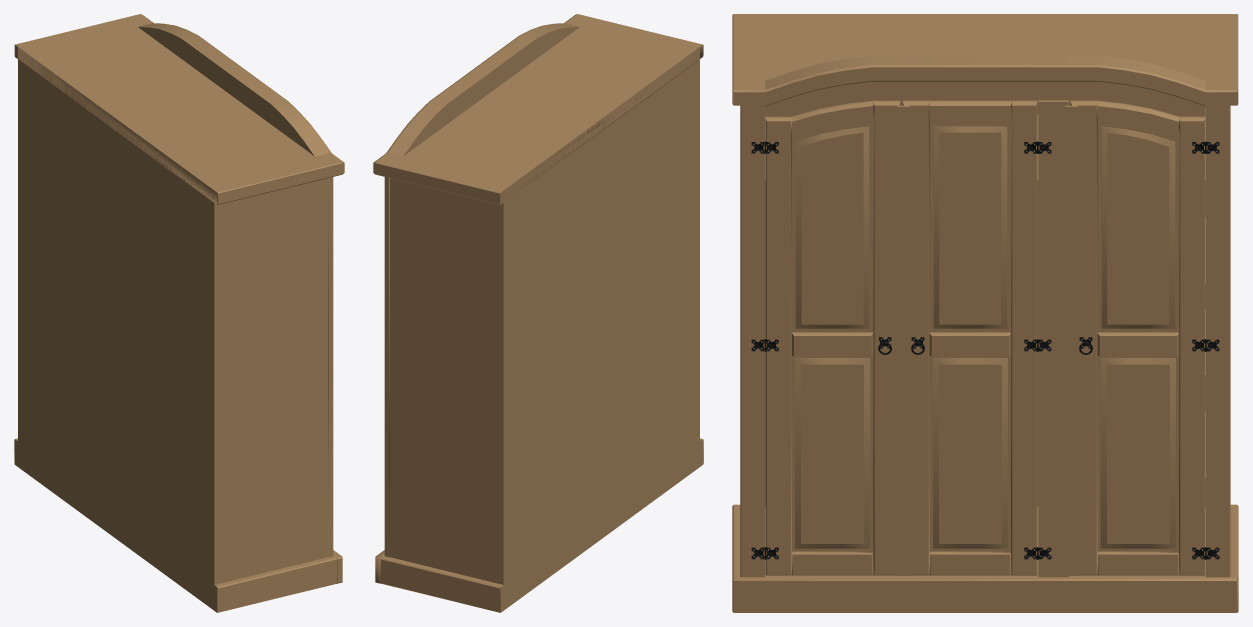
The model's file is Corona Wardrobe Set Blend.dae.
The picture shows the model from 3 angles, left to right: view 1: azimuth 30°, elevation 25°; view 2: azimuth 150°, elevation 25°; view 3: azimuth 270°, elevation 25°; orthographic projection. The views are drawn at different scales.
Parts seen in each view (by area): view 1: Cube_022; view 2: Cube_022; view 3: Cube_022, TuerMitte, Cube_020, Cube_021.
Part boxes in pixels (x1=…): Cube_022: x1=14, y1=14, x2=344, y2=612; Cube_022: x1=373, y1=14, x2=703, y2=612; Cube_022: x1=732, y1=14, x2=1238, y2=612; TuerMitte: x1=897, y1=100, x2=1037, y2=575; Cube_020: x1=1065, y1=100, x2=1205, y2=575; Cube_021: x1=765, y1=100, x2=900, y2=575.
Size of the model in its own units: 2.47 by 6.84 by 8.16.
